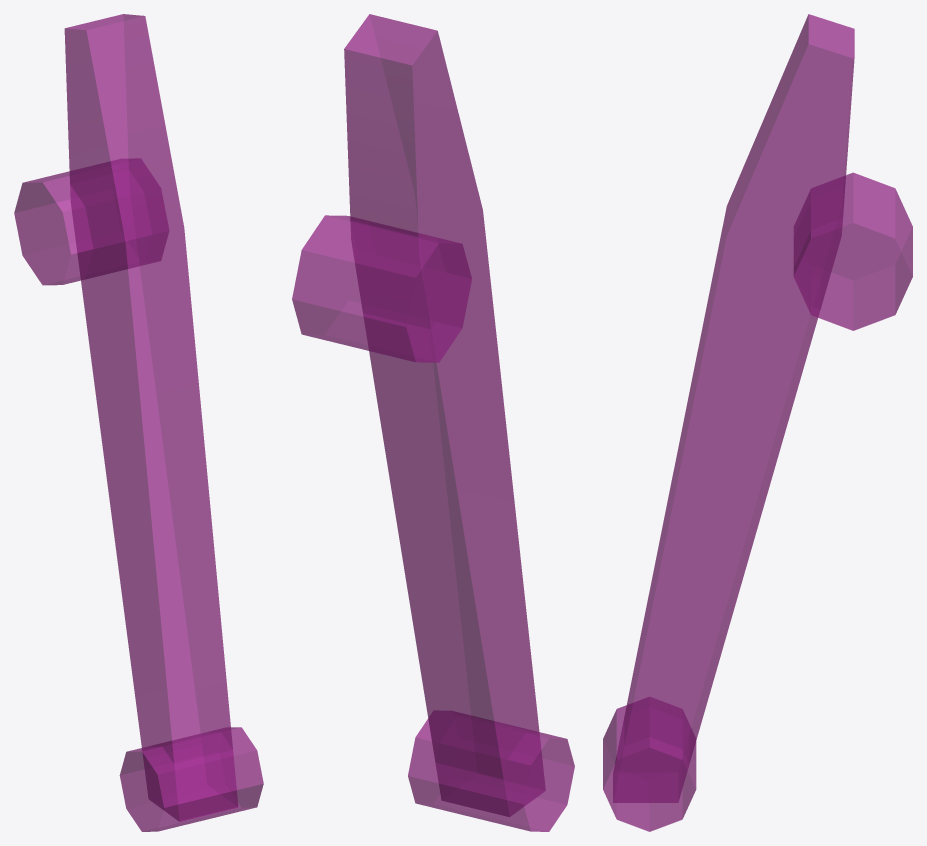
Rendered from SM_Prop_Crane_01_Boom_01_Collision.fbx.
3 renders of one model, left to right at view 1: azimuth 30°, elevation 25°; view 2: azimuth 150°, elevation 25°; view 3: azimuth 270°, elevation 25°, orthographic. The views are drawn at different scales.
Visible parts, largest first — view 1: SM_Prop_Crane_01_Boom_01_Collision; view 2: SM_Prop_Crane_01_Boom_01_Collision; view 3: SM_Prop_Crane_01_Boom_01_Collision.
Boxes of the visible parts, x1,y1,x2,y2 form: SM_Prop_Crane_01_Boom_01_Collision: (14,14,263,831); SM_Prop_Crane_01_Boom_01_Collision: (292,14,574,831); SM_Prop_Crane_01_Boom_01_Collision: (603,14,912,831).
Size of the model in its own units: 199 by 1384 by 500.
